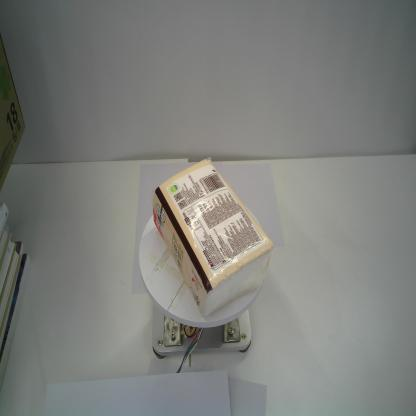Tissue: (152, 157, 275, 317)
